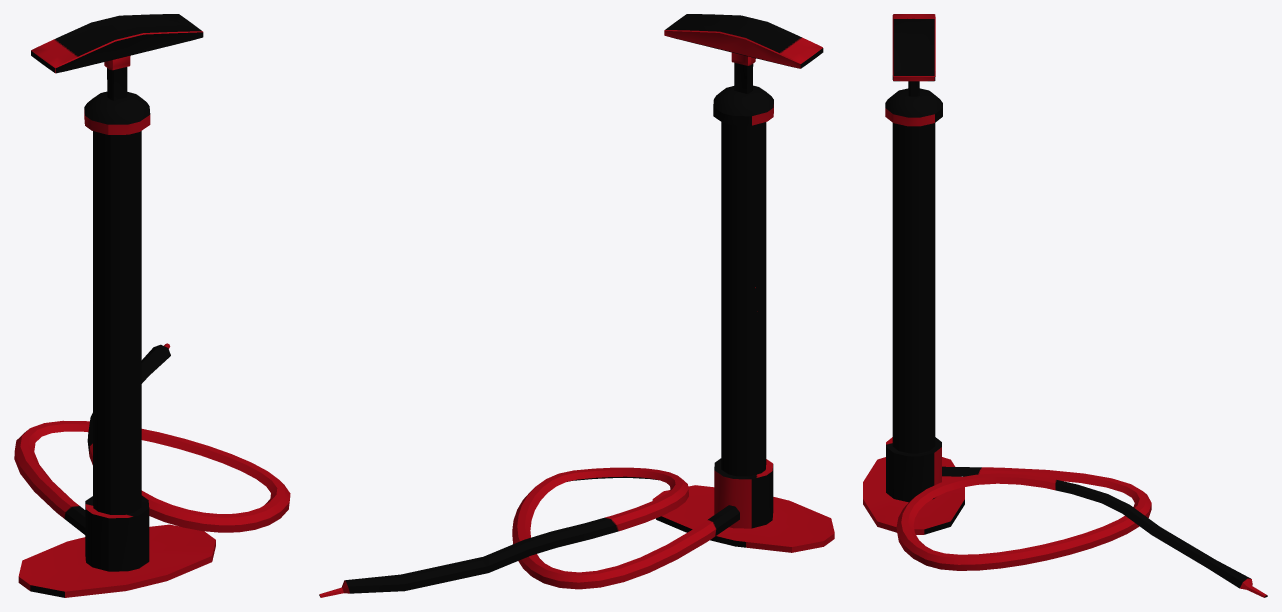
The model's file is Airpump_w_Hose.fbx.
3 views of the same model, side by side, from view 1: azimuth 30°, elevation 25°; view 2: azimuth 150°, elevation 25°; view 3: azimuth 270°, elevation 25° (orthographic). The views are drawn at different scales.
Parts seen in each view (by area): view 1: Cube.018; view 2: Cube.018; view 3: Cube.018.
Part boxes in pixels (x1,y1,x2,y2): Cube.018: [14, 14, 290, 597]; Cube.018: [319, 14, 834, 597]; Cube.018: [863, 14, 1267, 597].
Bounding box in the file's own units: 57.57 × 84.56 × 67.12.
